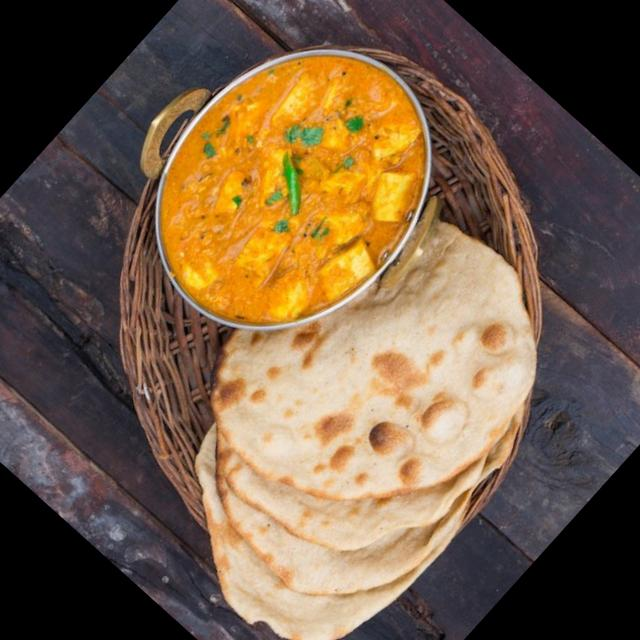ShahiPaneer: (104, 0, 475, 375)
